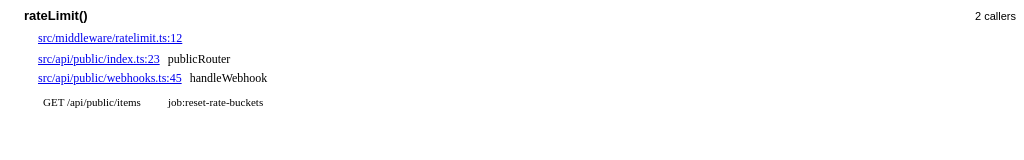
SymbolRow — collapse › collapses again on a second click
Click the button "rateLimit() 2 callers". click: point(56, 16)
box: x1=8 y1=8 x2=1016 y2=23
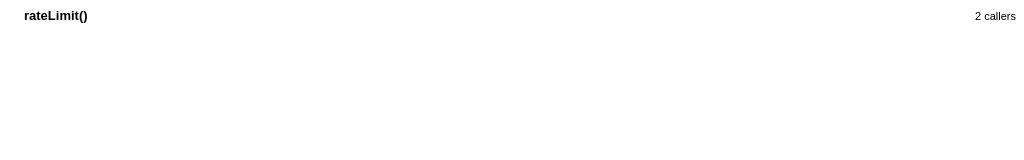
Result: the link "src/api/public/index.ts:23" is gone
